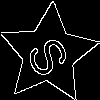S: (23, 28, 80, 81)
